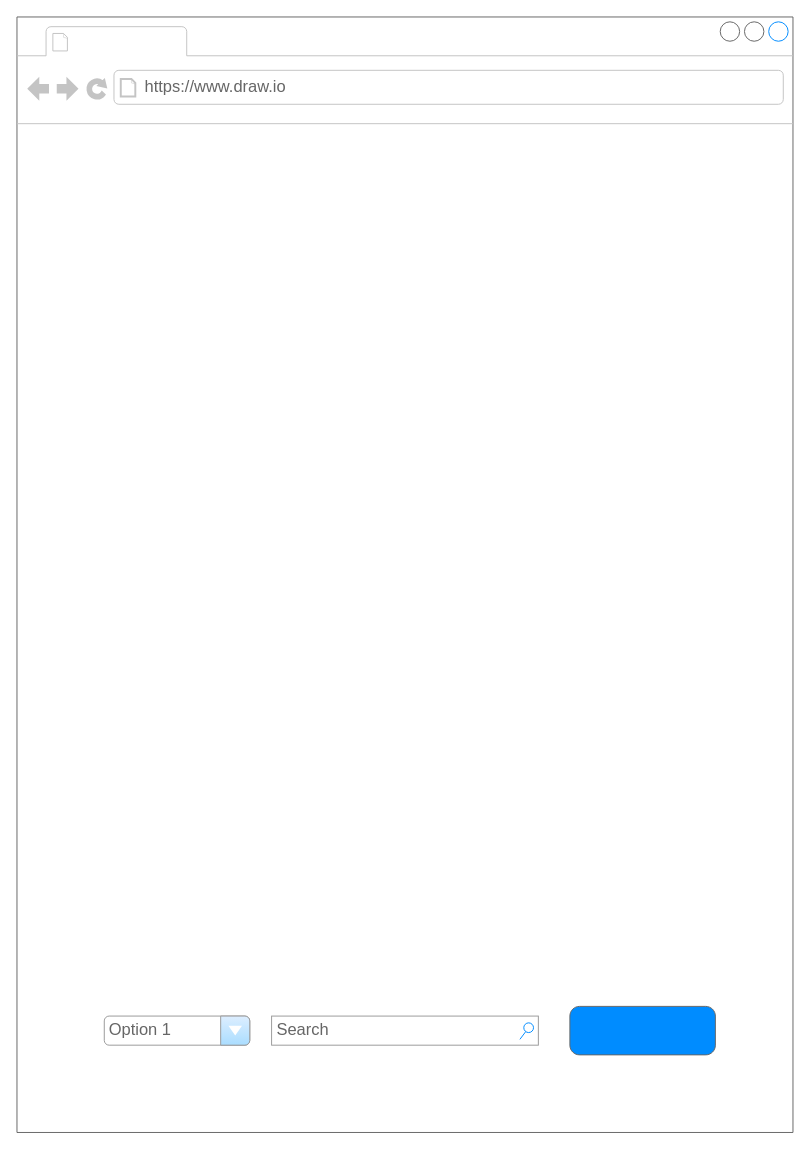
The diagram is 810 pixels wide and 1149 high, and some of its shapes have lost their labels. The shapes that lost their labels are listed below. From the top down, each one's centre as x and y in pixels, then its label:
[128,41]: Page 1
[642,1030]: Button Text
